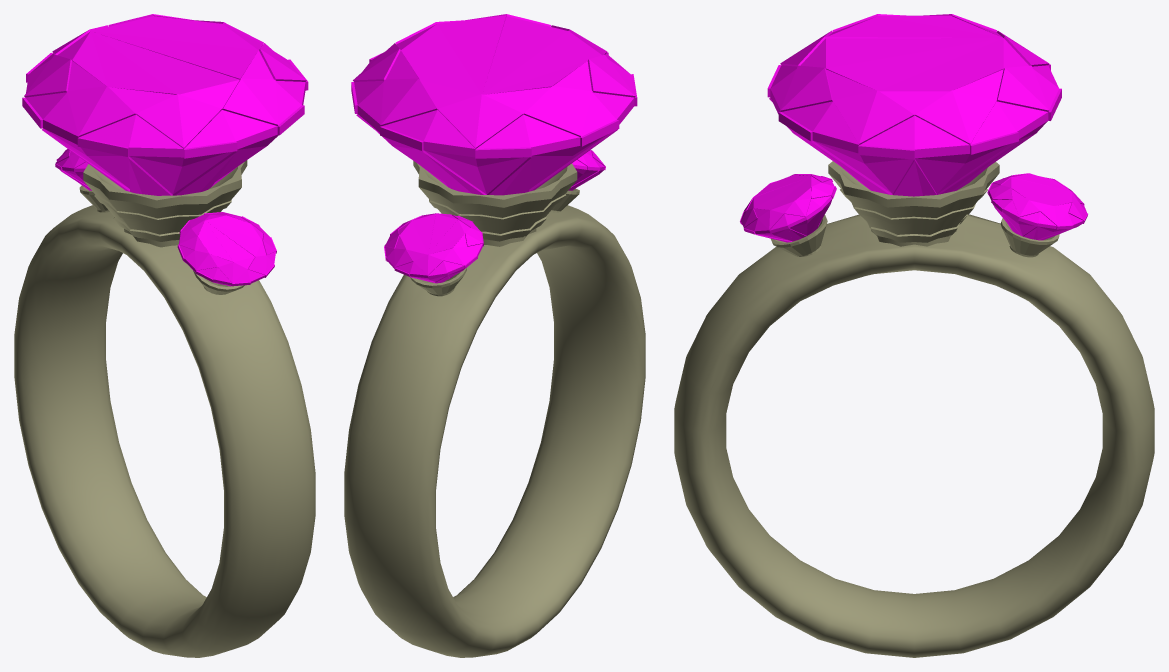
File: yubiwa.fbx
3 views of the same model, side by side, from view 1: azimuth 30°, elevation 25°; view 2: azimuth 150°, elevation 25°; view 3: azimuth 270°, elevation 25° (orthographic). The views are drawn at different scales.
Parts seen in each view (by area): view 1: pTorus1, pCylinder1, pCylinder4, pCone1, pCylinder3; view 2: pTorus1, pCylinder1, pCylinder3, pCone1, pCylinder4; view 3: pTorus1, pCylinder1, pCone1, pCylinder3, pCylinder4.
Boxes of the visible parts, <box> form: pTorus1: <box>14,205,315,657</box>; pCylinder1: <box>22,14,308,195</box>; pCylinder4: <box>177,212,276,294</box>; pCone1: <box>83,160,247,247</box>; pCylinder3: <box>55,149,109,212</box>; pTorus1: <box>344,205,645,657</box>; pCylinder1: <box>351,14,637,195</box>; pCylinder3: <box>384,213,483,296</box>; pCone1: <box>413,161,577,246</box>; pCylinder4: <box>550,150,605,212</box>; pTorus1: <box>674,214,1154,657</box>; pCylinder1: <box>767,14,1061,196</box>; pCone1: <box>828,161,999,246</box>; pCylinder3: <box>987,173,1087,257</box>; pCylinder4: <box>740,174,836,256</box>.
Size of the model in its own units: 10.25 by 22.95 by 16.7.
